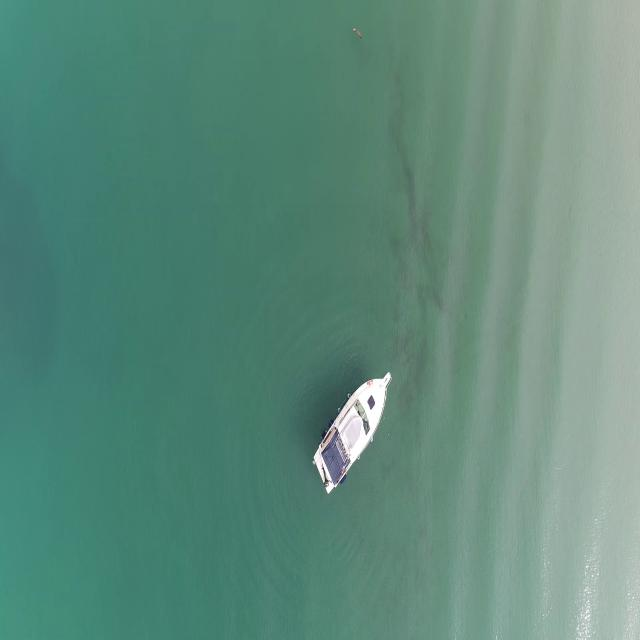boat: (315, 368, 391, 500)
wood: (352, 27, 364, 40)
